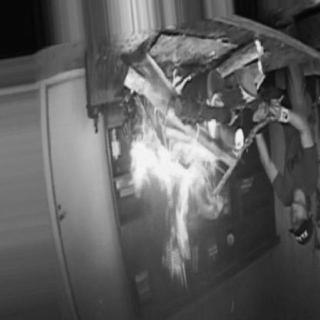Fire: (127, 79, 243, 282)
